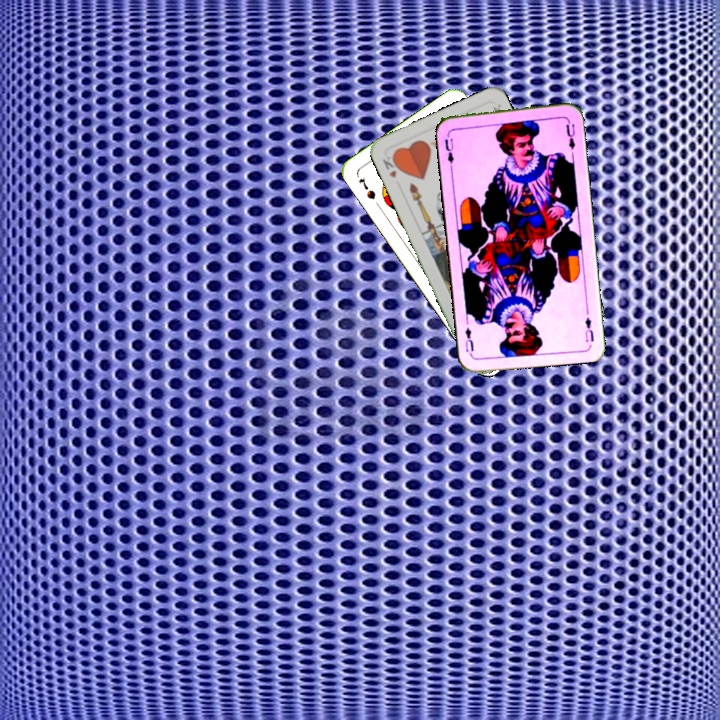EU: (441, 129, 456, 169), (581, 313, 596, 345)
HK: (378, 150, 403, 181)
S7: (355, 173, 378, 202)
